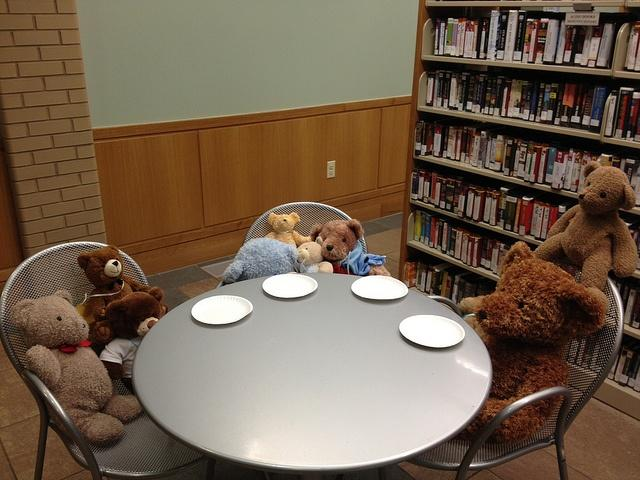Kursi: (454, 264, 624, 479)
Rak: (395, 0, 639, 294)
